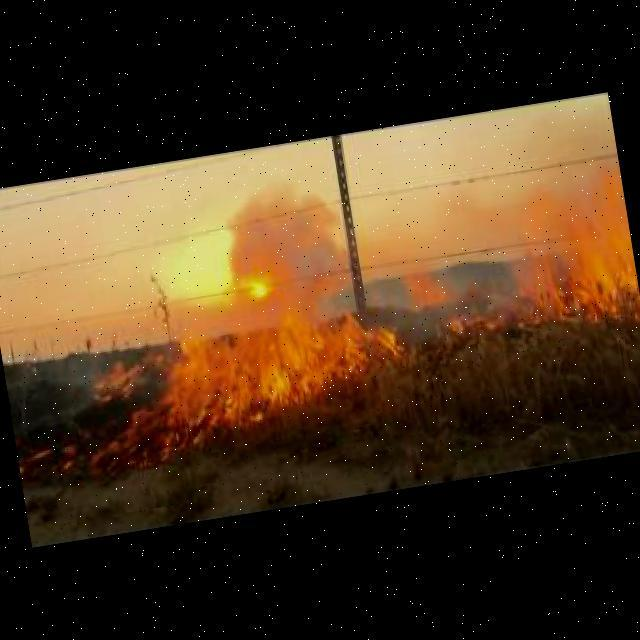Fire: (86, 279, 384, 461), (494, 168, 638, 326), (445, 304, 502, 336), (406, 267, 447, 308)
